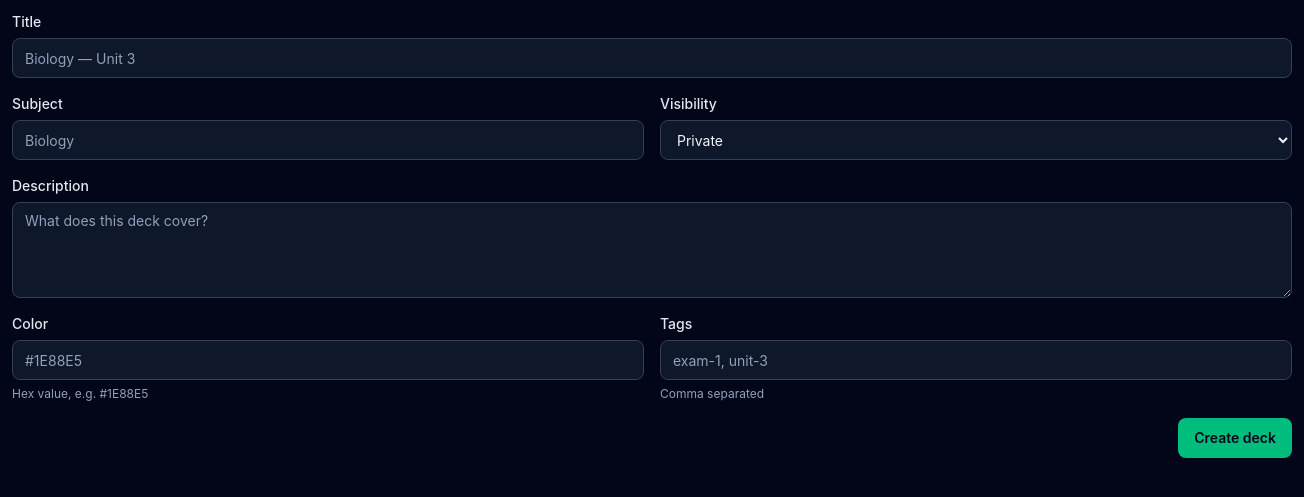
DeckForm › requires a title
The width and height of the screenshot is (1304, 497).
Click the button "Create deck": {"x": 1235, "y": 438} [1178,418,1292,458]
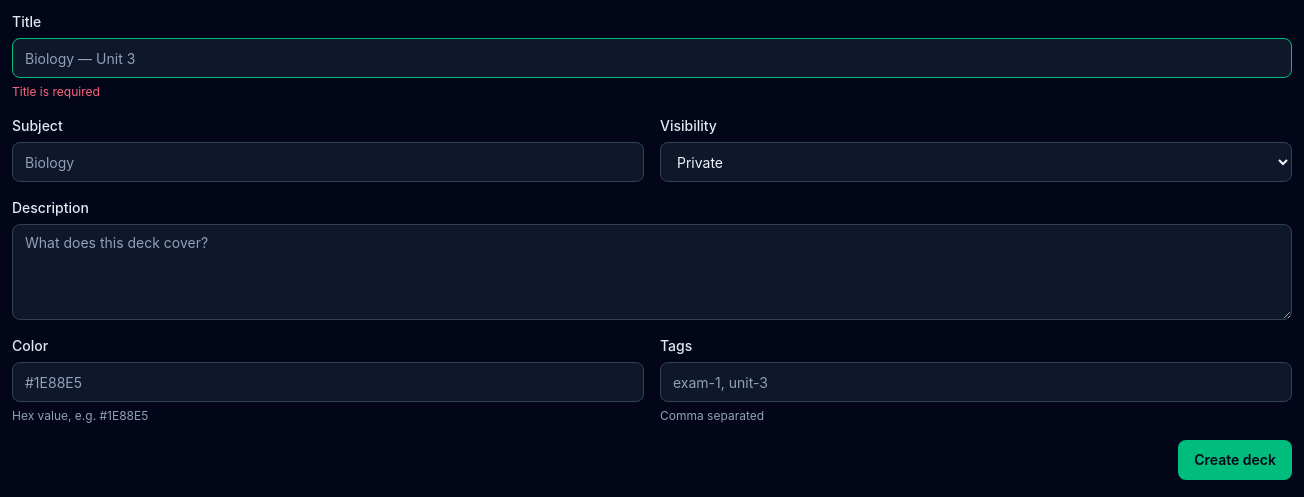
Check: the message "Title is required" is shown, box [12,84,100,99]
